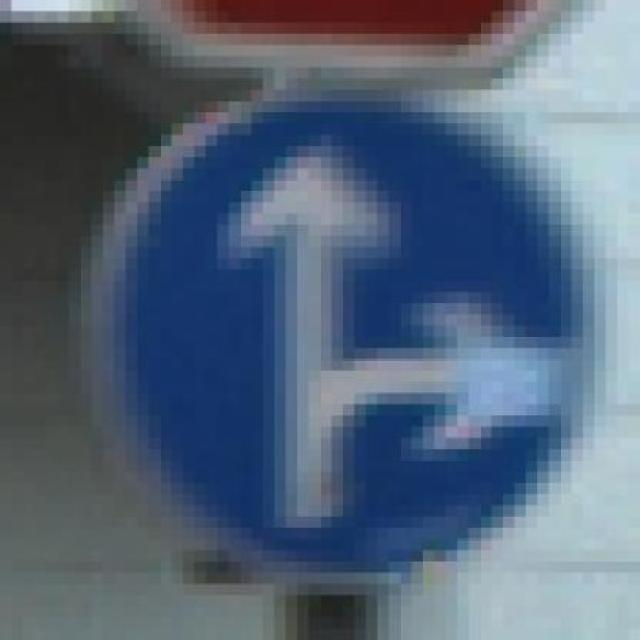Go Straight or Turn Right: (91, 78, 606, 584)
